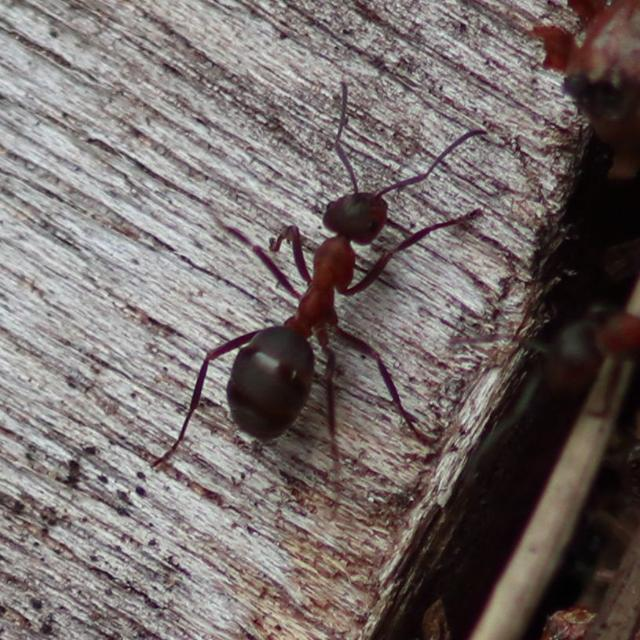Formica: (207, 161, 437, 447)
